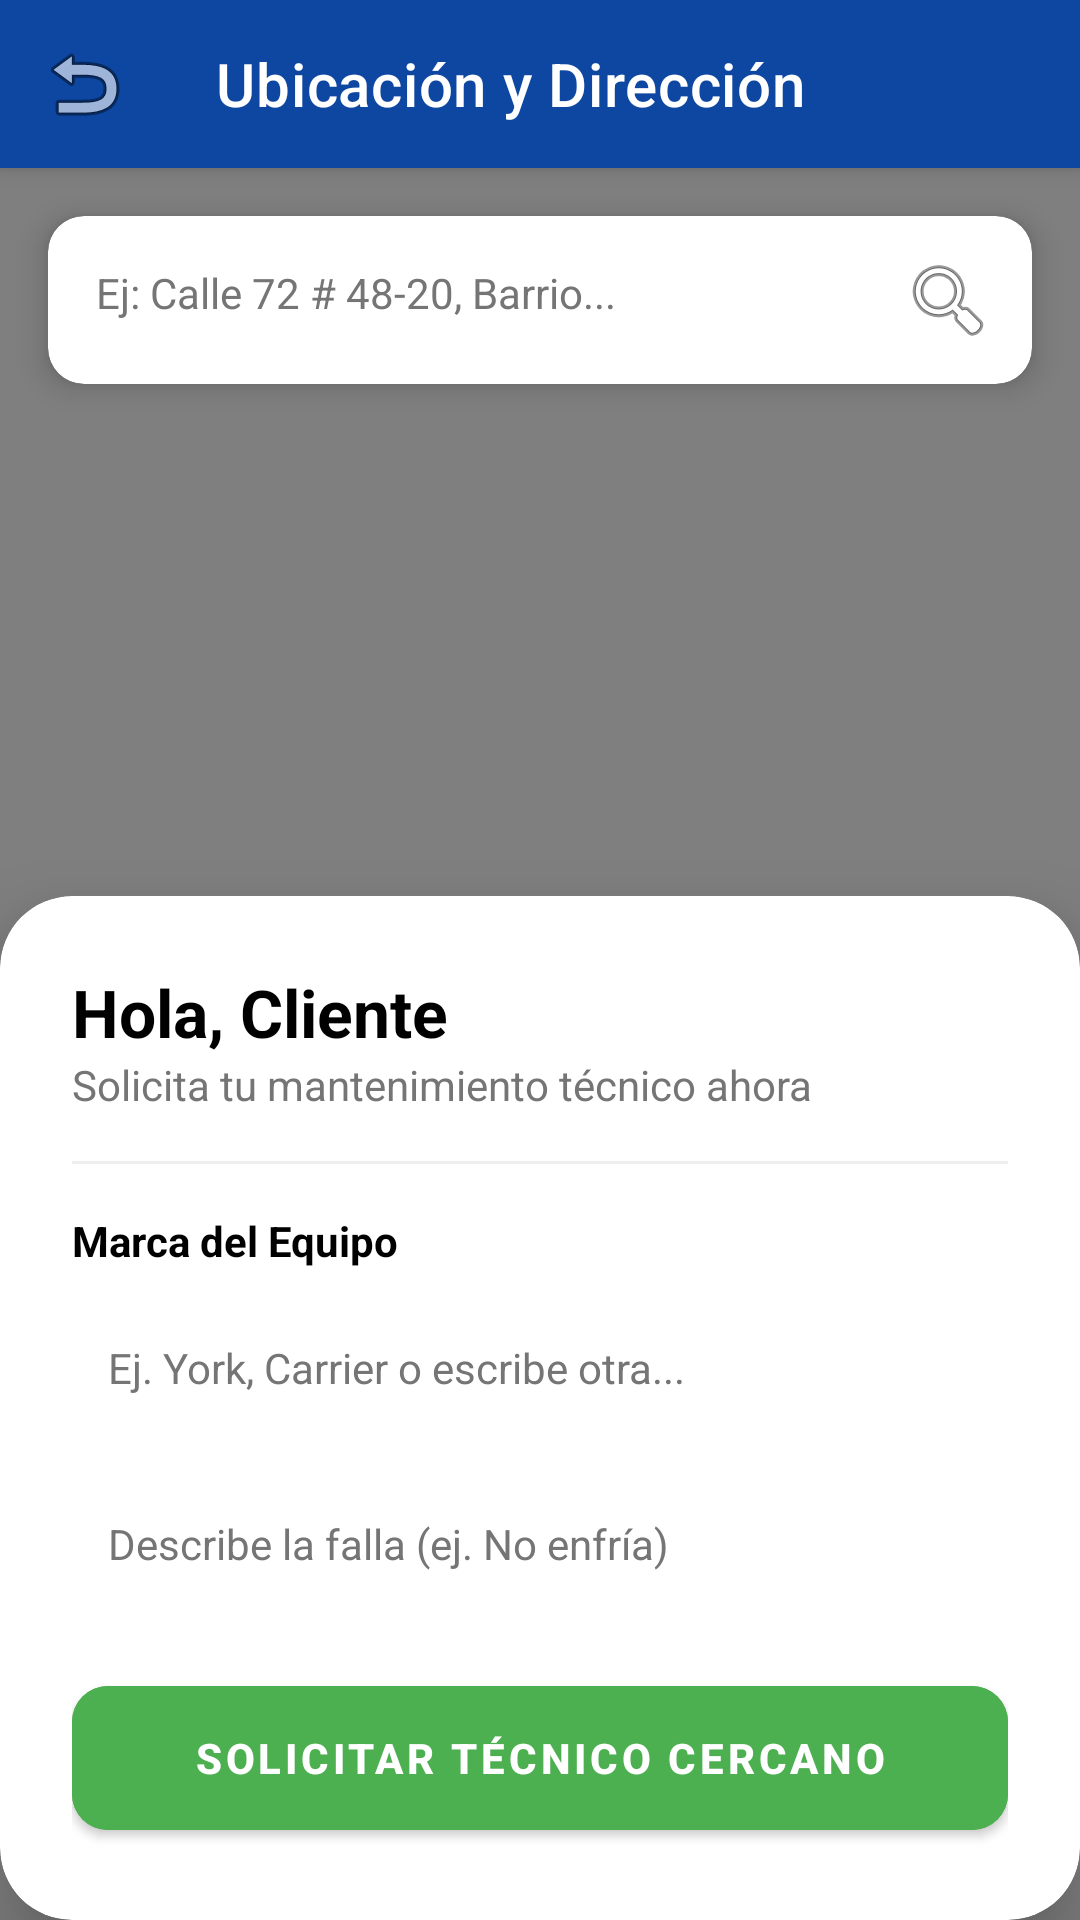

Icons on this 1080*1920 Android screen, each with the point to tap as point (x, y):
Buscar dirección: point (948, 300)
